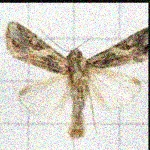Spodoptera litura: (4, 20, 148, 138)
